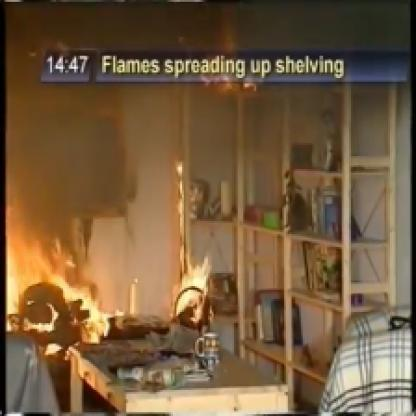fire: (0, 180, 123, 368), (165, 157, 232, 341)
